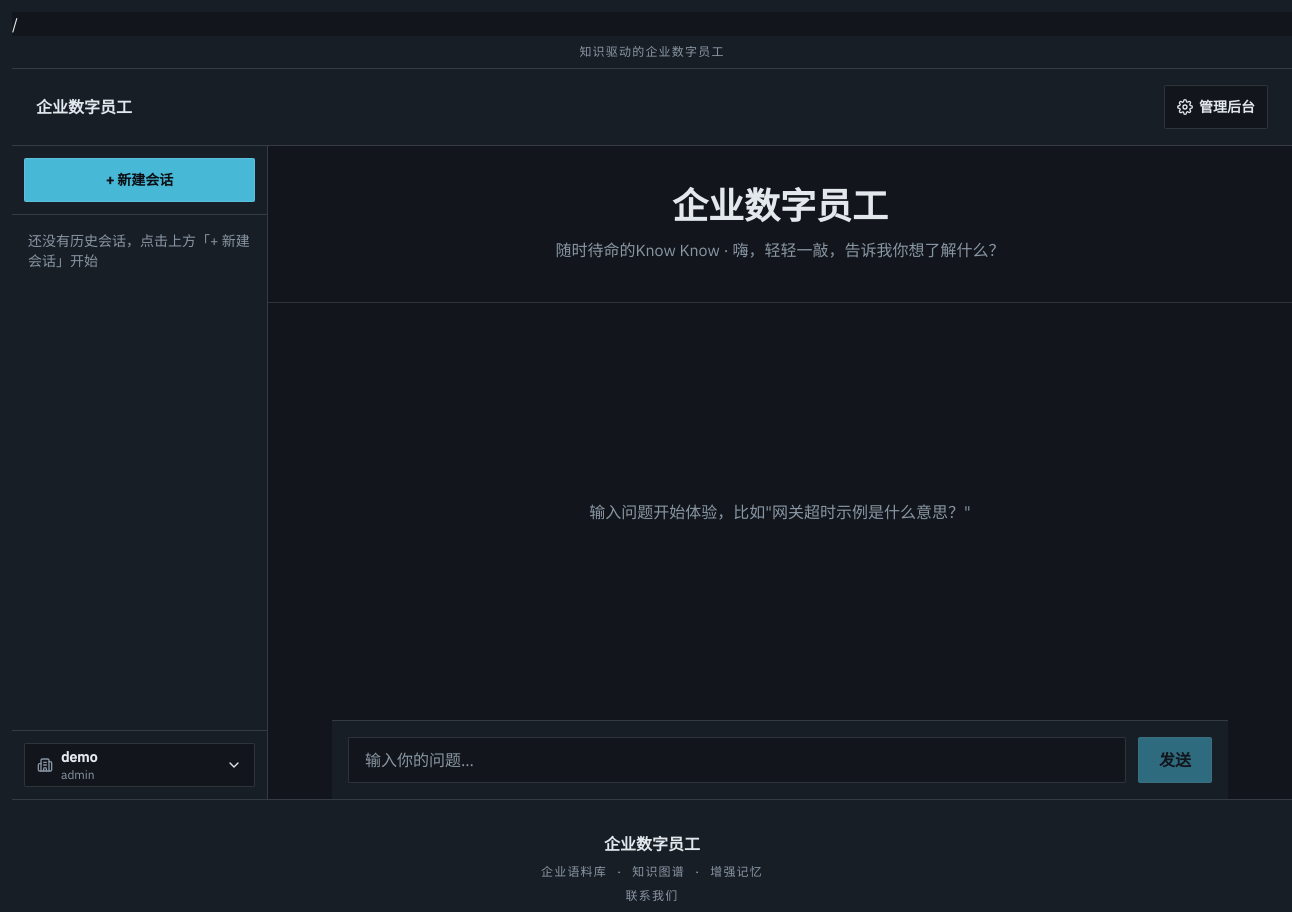
Test: 前台账号块 › 登录后前台显示账号块，但没有账号管理和租户管理
Click the button "demo admin": (140, 765) [24, 743, 255, 787]
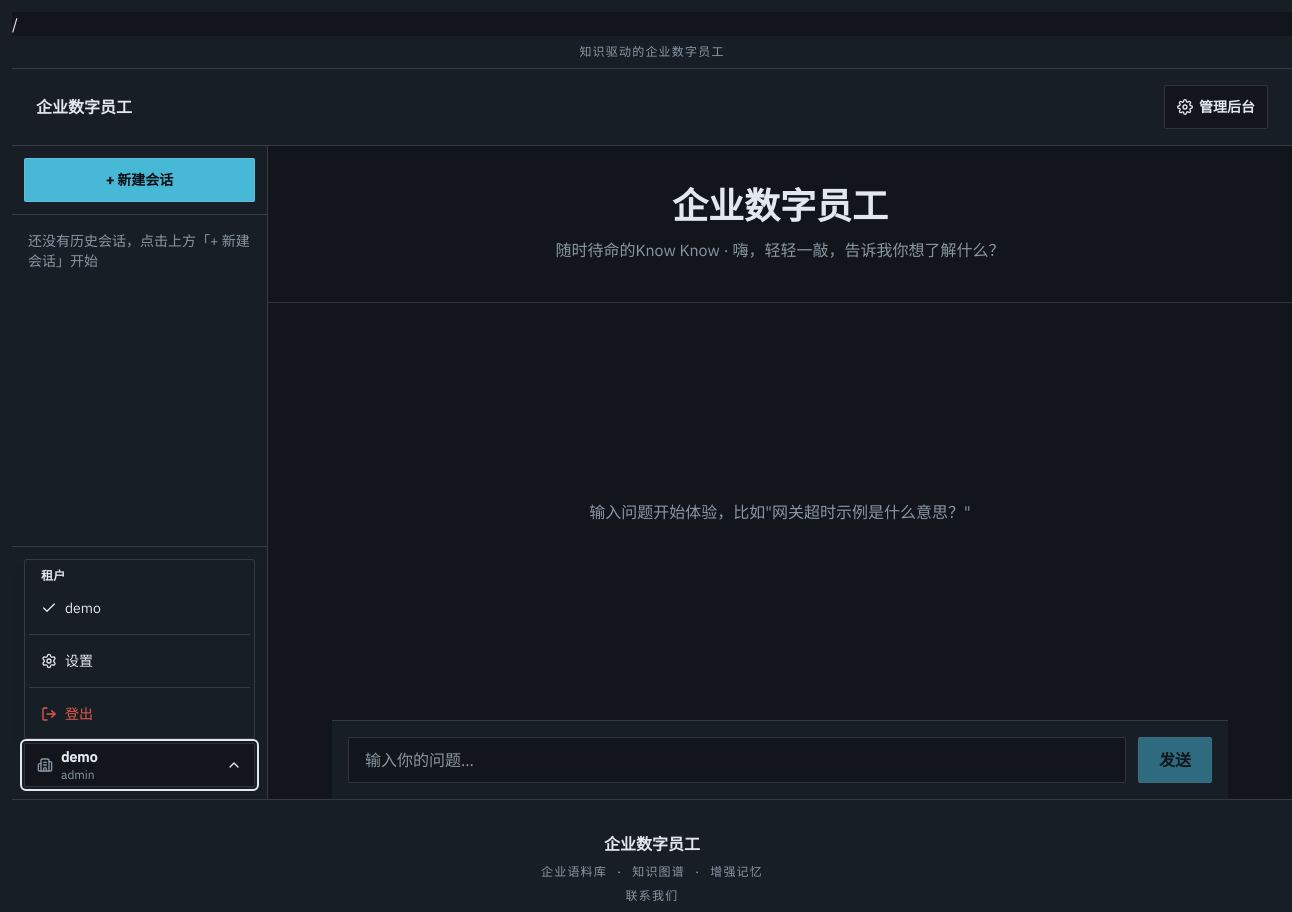
Expected: the menu item "设置" is shown, [41, 652, 93, 670]
